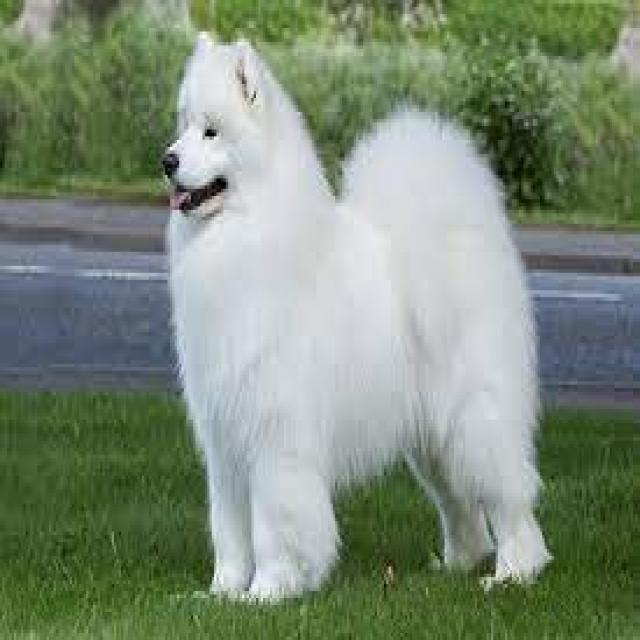dogs: (162, 27, 553, 607)
